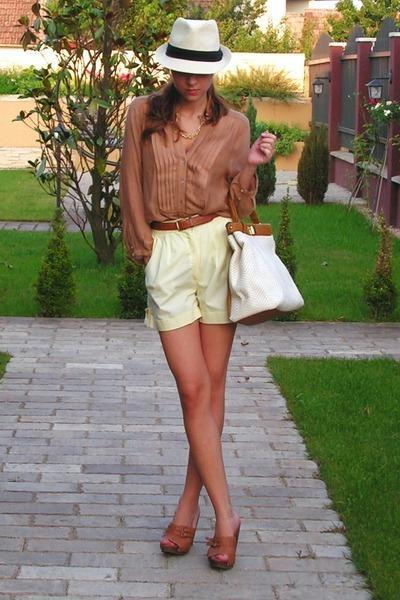bag: (144, 204, 303, 327)
hat: (149, 17, 236, 83)
shirt: (109, 95, 262, 263)
shoe: (160, 516, 239, 573)
shorts: (132, 217, 231, 343)
